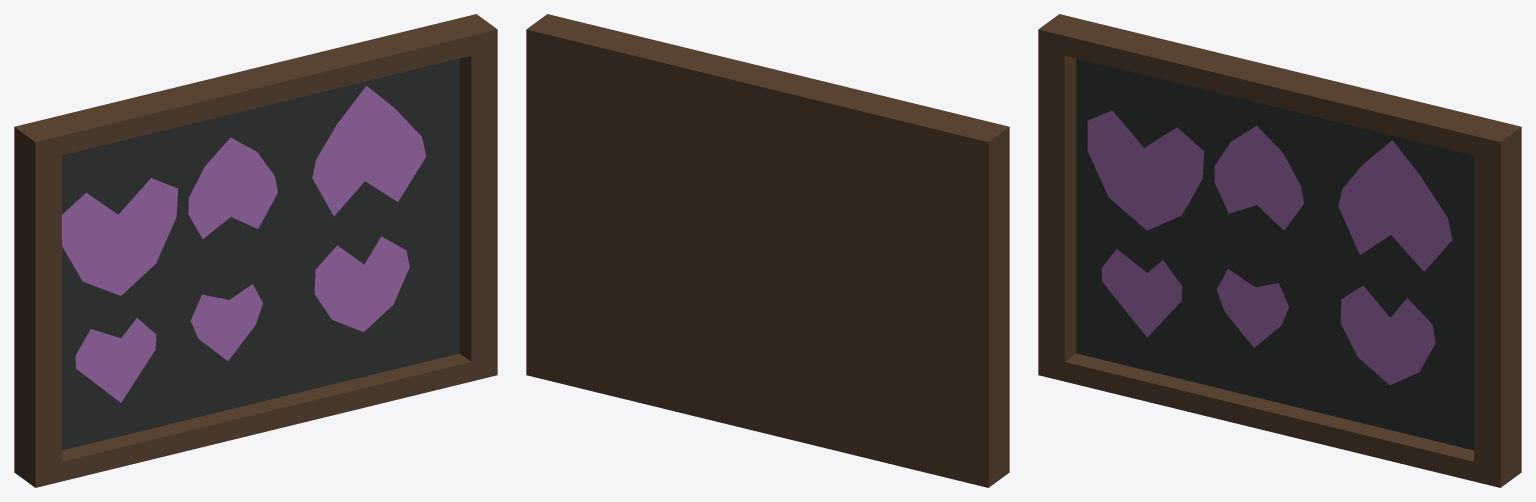
File: painting6.fbx
The picture shows the model from 3 angles, left to right: view 1: azimuth 30°, elevation 25°; view 2: azimuth 150°, elevation 25°; view 3: azimuth 330°, elevation 25°; orthographic projection.
Parts seen in each view (by area): view 1: pCube8; view 2: pCube8; view 3: pCube8.
Boxes of the visible parts, x1,y1,x2,y2 form: pCube8: [14, 14, 497, 487]; pCube8: [526, 14, 1009, 487]; pCube8: [1038, 14, 1521, 487].
Size of the model in its own units: 6.1 by 4.36 by 0.4838.
